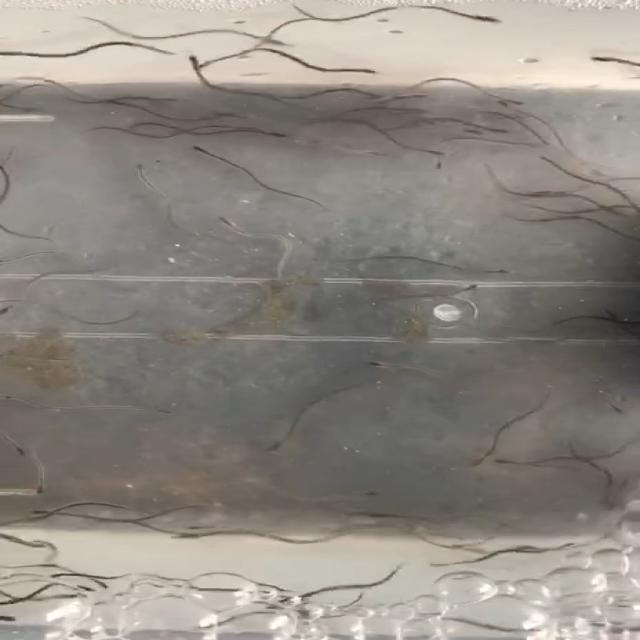active_glass_eel: (328, 60, 385, 75), (249, 34, 301, 49), (184, 53, 212, 79), (207, 208, 239, 230), (581, 54, 634, 67), (183, 143, 221, 161), (82, 573, 120, 591), (196, 57, 236, 74), (249, 125, 289, 141), (342, 488, 389, 501), (193, 618, 231, 634), (66, 577, 99, 595), (142, 91, 181, 106), (362, 356, 396, 373), (47, 588, 90, 601), (258, 439, 289, 456), (169, 527, 205, 541), (486, 121, 516, 137), (365, 144, 395, 159), (29, 477, 54, 495), (429, 152, 450, 173), (0, 392, 31, 406), (603, 398, 630, 414), (0, 295, 20, 315), (534, 153, 558, 169), (497, 457, 529, 469), (7, 442, 30, 458), (492, 100, 522, 112), (463, 454, 490, 467), (501, 94, 529, 106), (135, 160, 156, 175), (455, 283, 479, 295), (38, 507, 64, 518), (0, 612, 20, 626), (486, 267, 509, 276)
